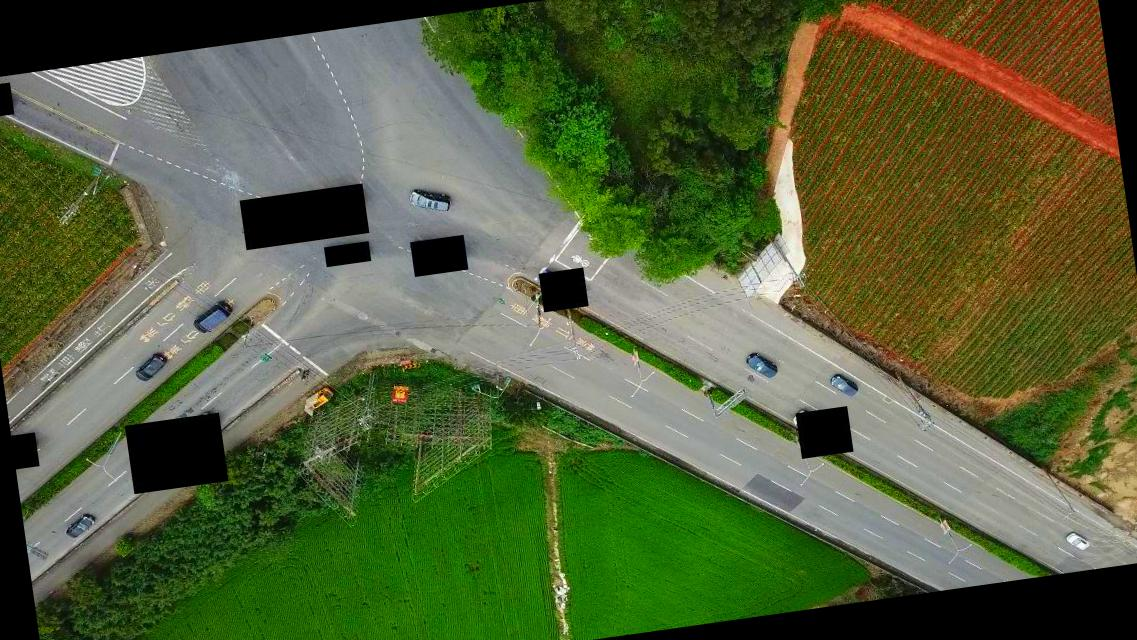vehicle: (188, 304, 233, 337), (410, 185, 452, 218), (746, 352, 780, 384), (134, 352, 169, 382), (830, 371, 862, 402), (65, 512, 98, 540), (305, 388, 336, 414), (1064, 529, 1090, 554)
